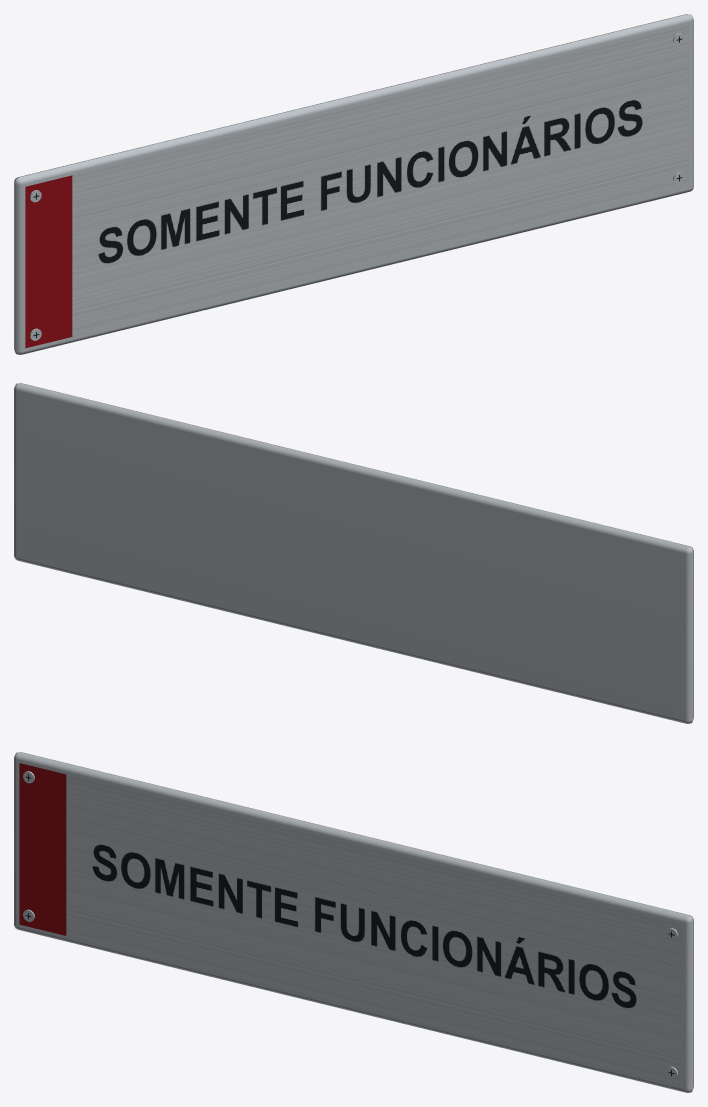
Rendered from placa_funcionarios_realista.glb.
The picture shows the model from 3 angles, top to bottom: view 1: azimuth 30°, elevation 25°; view 2: azimuth 150°, elevation 25°; view 3: azimuth 330°, elevation 25°; orthographic projection.
Visible parts, largest first — view 1: Texto em textura, Placa metalica; view 2: Placa metalica; view 3: Texto em textura, Placa metalica.
Boxes of the visible parts, x1,y1,x2,y2 form: Texto em textura: (25, 25, 688, 348); Placa metalica: (14, 14, 693, 354); Placa metalica: (14, 383, 693, 723); Texto em textura: (19, 763, 682, 1086); Placa metalica: (14, 752, 693, 1092).
Bounding box in the file's own units: 0.8 × 0.2 × 0.0142.
3 materials, 1 textured.
